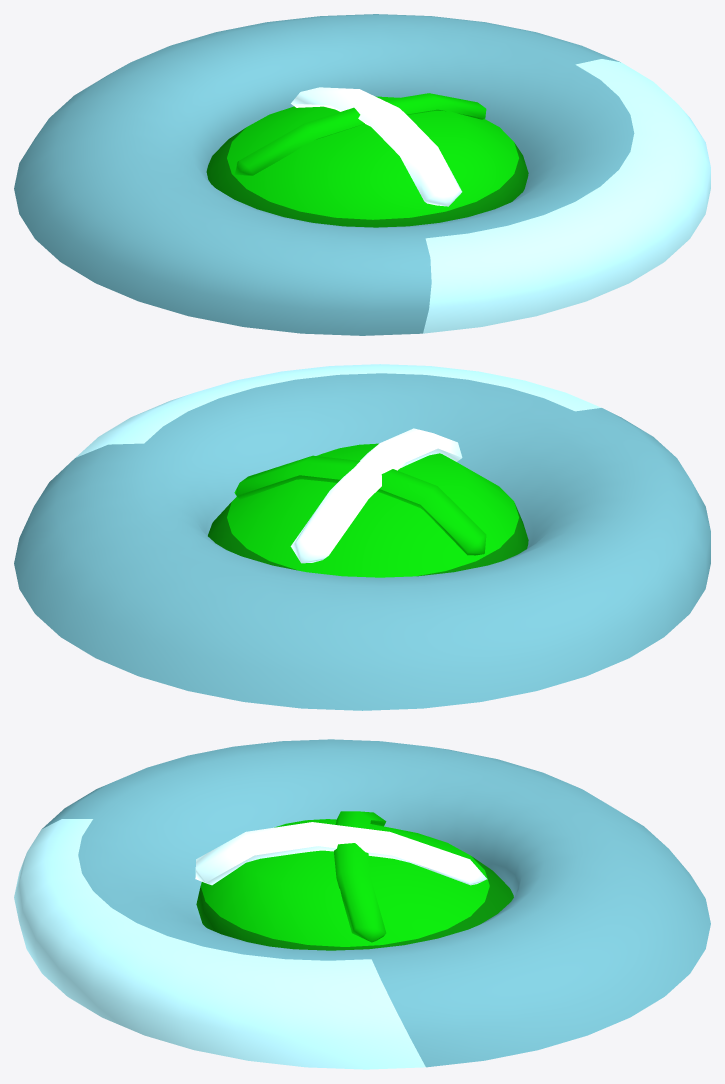
The model's file is shot_benob.glb.
3 views of the same model, one above another, from view 1: azimuth 30°, elevation 25°; view 2: azimuth 150°, elevation 25°; view 3: azimuth 270°, elevation 25° (orthographic).
Parts seen in each view (by area): view 1: bb_ring, bb_lens, bb_bar_v, bb_bar_h; view 2: bb_ring, bb_lens, bb_bar_v, bb_bar_h; view 3: bb_ring, bb_lens, bb_bar_v, bb_bar_h.
Part boxes in pixels (bbox=[...]): bb_ring: bbox=[14, 14, 710, 335]; bb_lens: bbox=[206, 96, 528, 227]; bb_bar_v: bbox=[291, 87, 462, 206]; bb_bar_h: bbox=[234, 93, 486, 175]; bb_ring: bbox=[14, 364, 710, 710]; bb_lens: bbox=[208, 443, 528, 577]; bb_bar_v: bbox=[290, 428, 462, 563]; bb_bar_h: bbox=[234, 455, 486, 555]; bb_ring: bbox=[14, 739, 710, 1069]; bb_lens: bbox=[196, 819, 513, 950]; bb_bar_v: bbox=[195, 822, 487, 885]; bb_bar_h: bbox=[333, 811, 386, 942].
Size of the model in its own units: 12 by 1.87 by 12.13.
